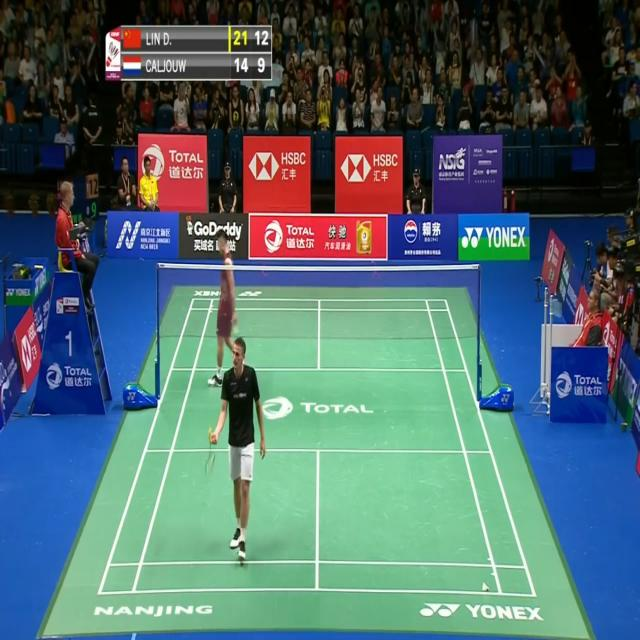Player1: (204, 338, 268, 572)
Player2: (207, 232, 242, 384)
